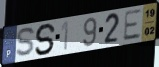1: (61, 20, 70, 53)
2: (102, 11, 122, 47)
9: (81, 16, 98, 48)
E: (122, 8, 142, 42)
S: (34, 23, 58, 57), (15, 26, 38, 59)
